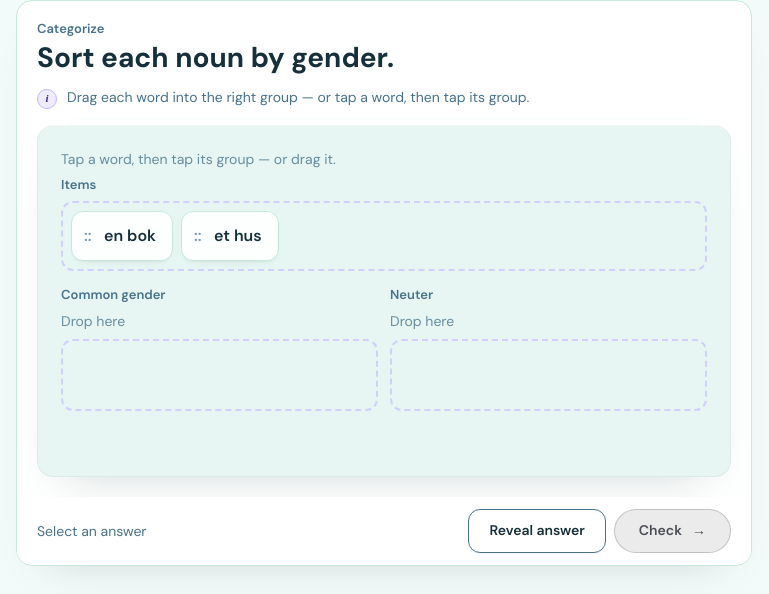
Test case: FlashCardCategorize › reveal shows the correct grouping and chip colors
The image size is (769, 594).
Step 1. Click the button "en bok" → click(122, 236), box x1=71 y1=211 x2=173 y2=261
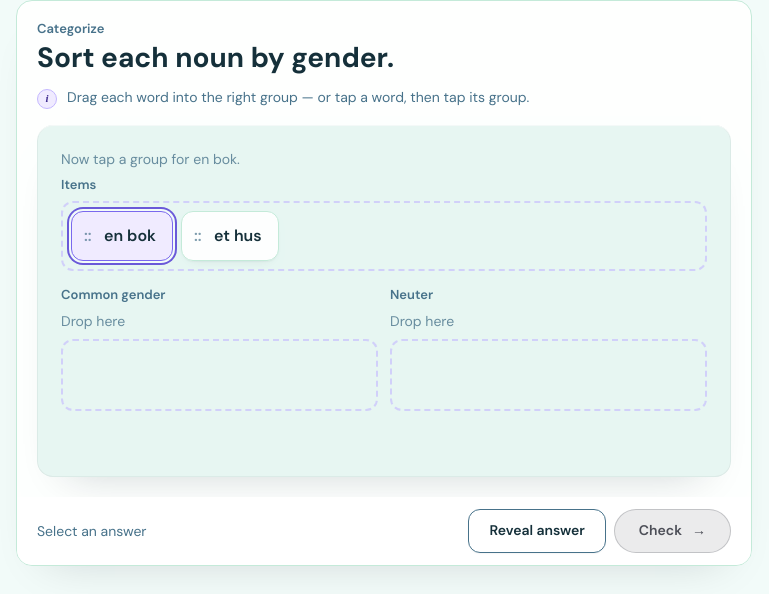
Step 2. Click the button with test id "drop-zone" → click(220, 375), box x1=61 y1=339 x2=378 y2=411
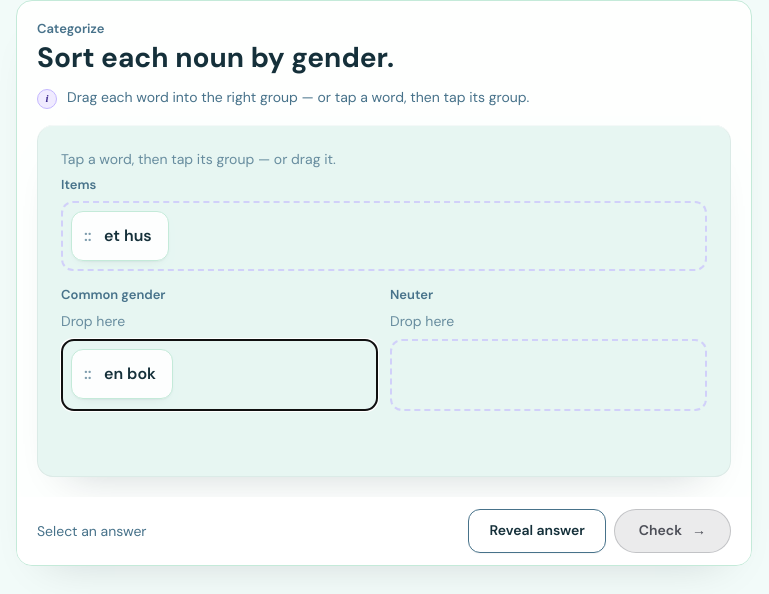
Step 3. Click the button "et hus" → click(120, 236), box x1=71 y1=211 x2=169 y2=261
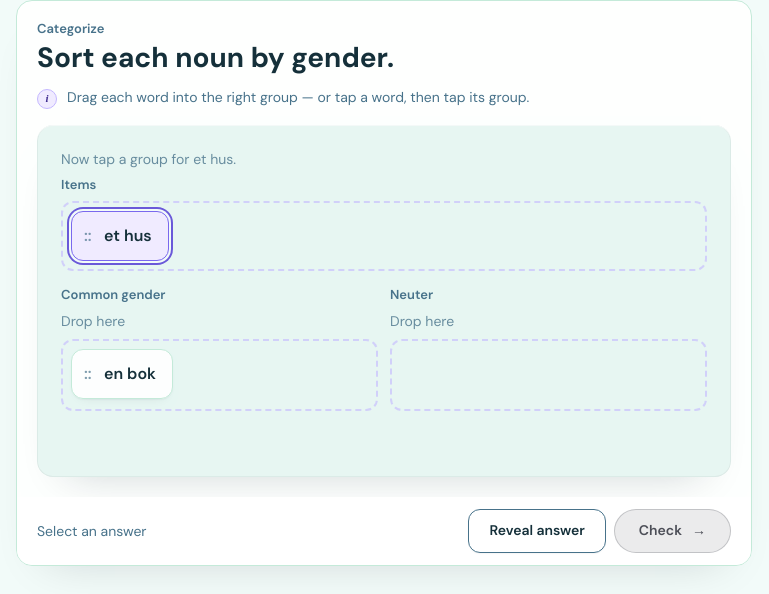
Step 4. Click the button with test id "drop-zone" → click(220, 375), box x1=61 y1=339 x2=378 y2=411
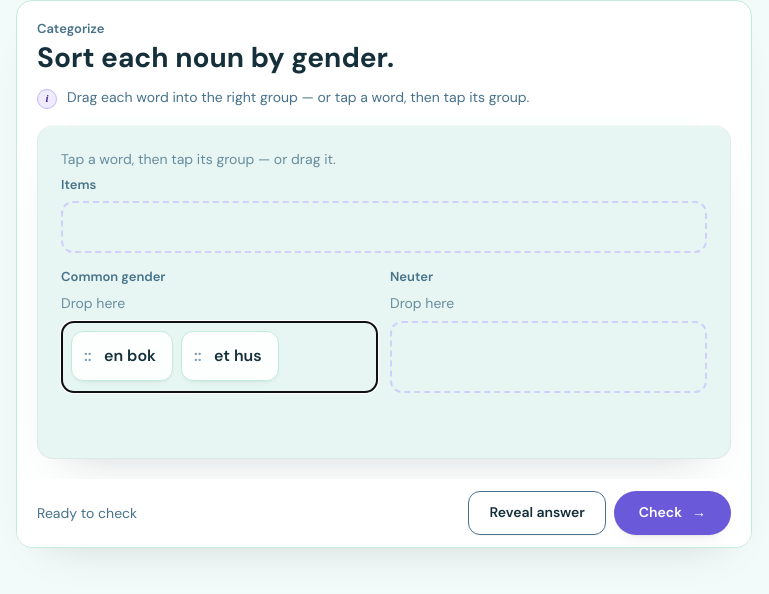
Step 5. Click the button "Check →" → click(672, 513), box x1=614 y1=491 x2=731 y2=535
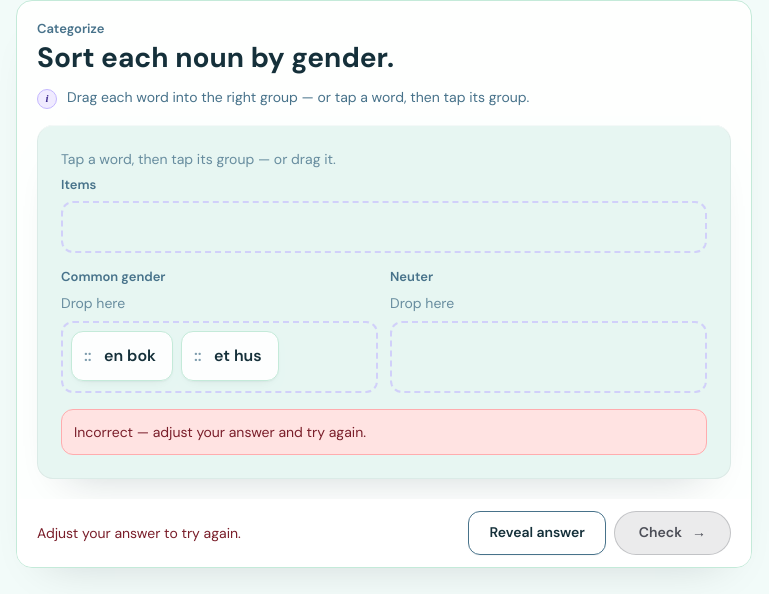
Step 6. Click the button "Reveal answer" → click(537, 533), box x1=468 y1=511 x2=606 y2=555
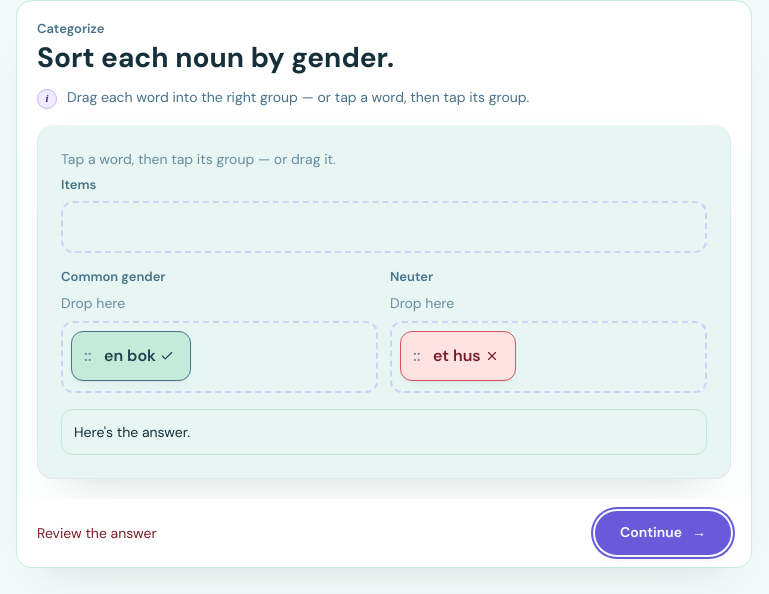
Check: the text "en bok" is shown, box x1=104 y1=345 x2=156 y2=366
Check: the text "Here's the answer." is shown, box x1=74 y1=423 x2=190 y2=441
